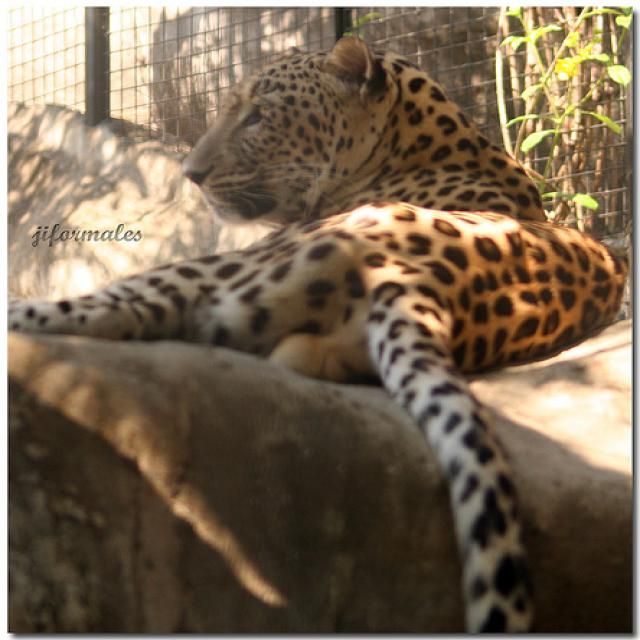Leopard: (0, 32, 626, 636)
